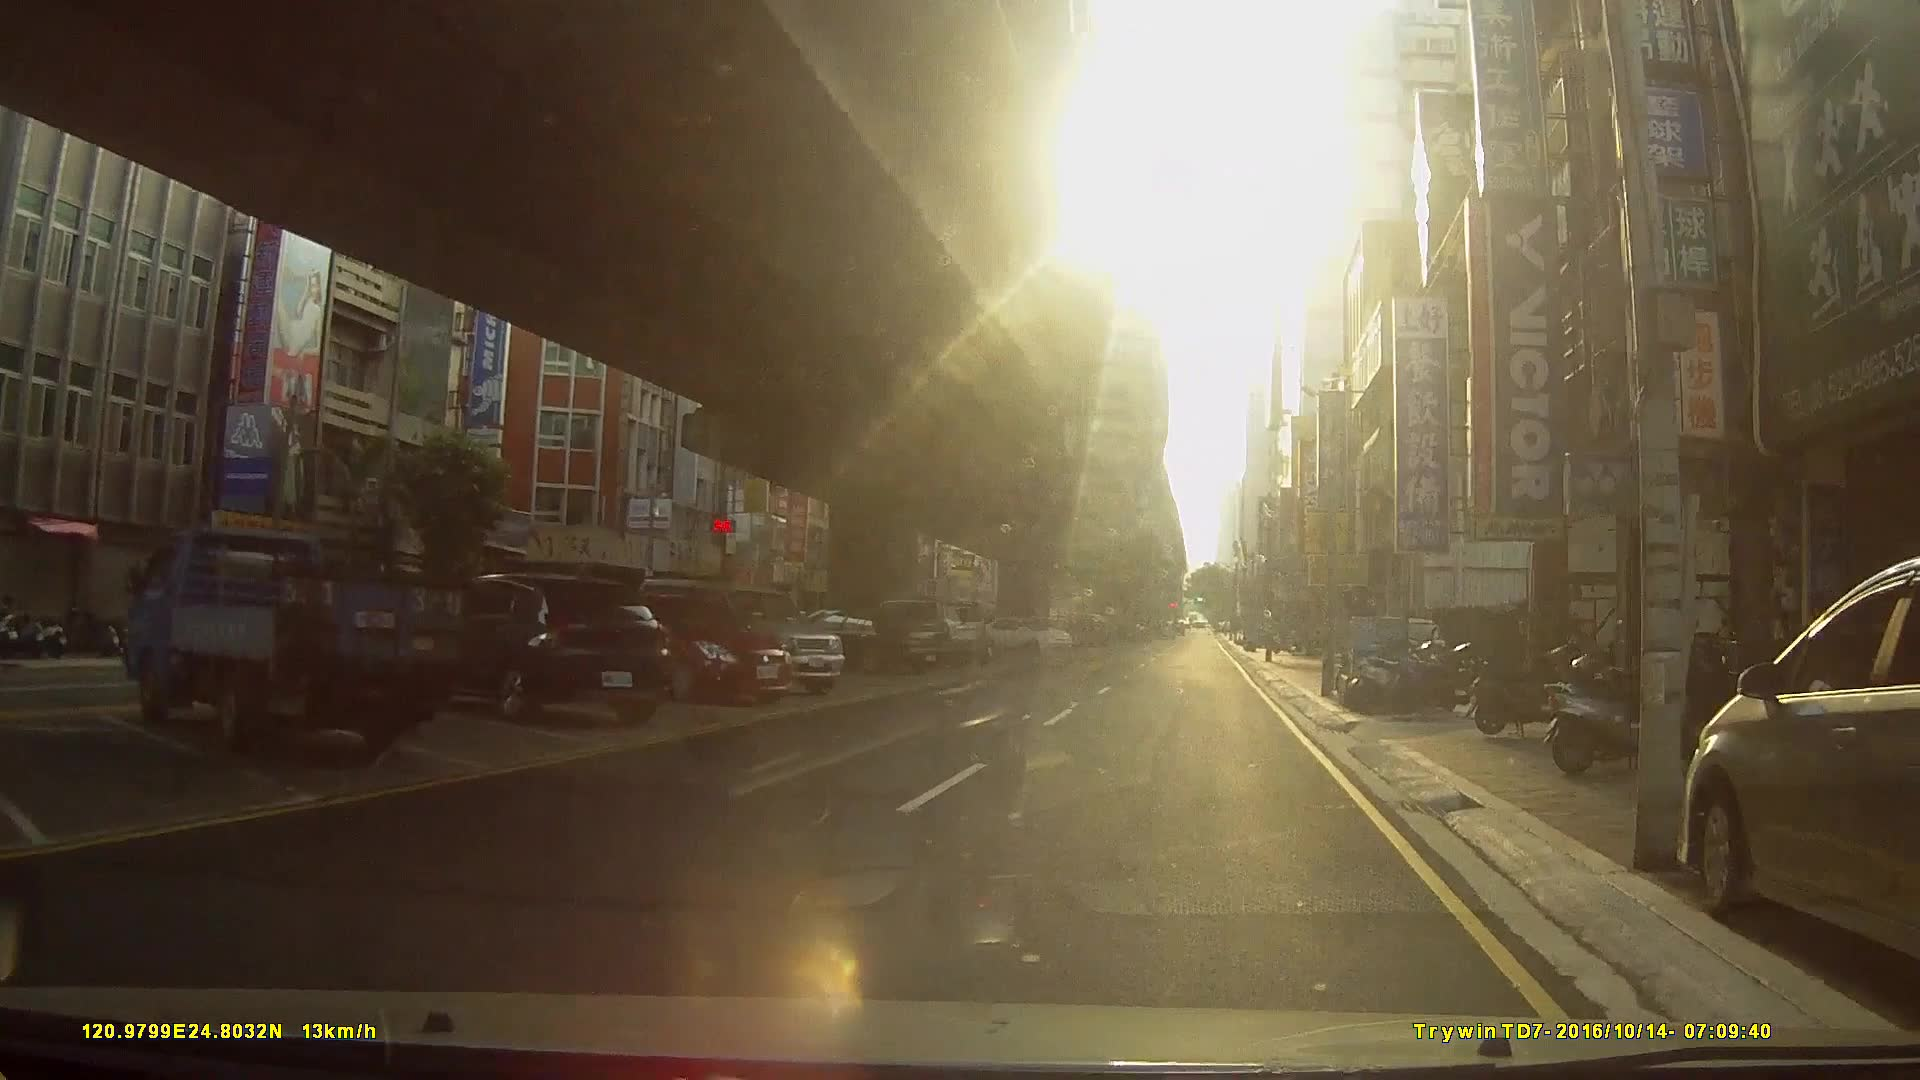vehicle: (1677, 556, 1920, 961), (113, 527, 473, 761), (418, 568, 670, 727), (630, 578, 843, 696), (599, 585, 794, 705), (775, 607, 939, 674), (853, 596, 989, 663), (982, 615, 1072, 654)
